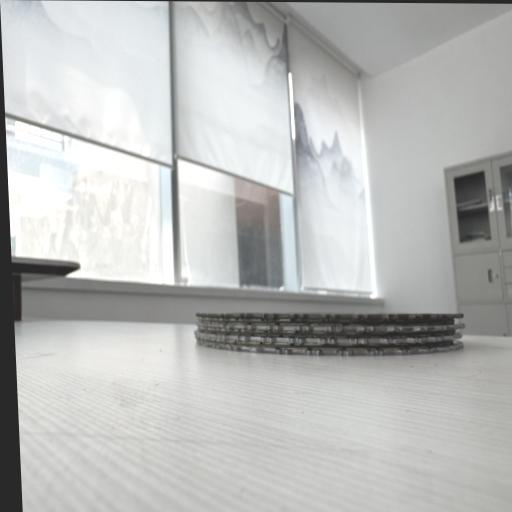black metal plate: (195, 313, 464, 319)
shiney metal plate: (197, 341, 464, 356), (194, 330, 463, 344), (194, 322, 465, 332)
spacer: (197, 338, 453, 350), (197, 327, 456, 338), (197, 316, 454, 325)
